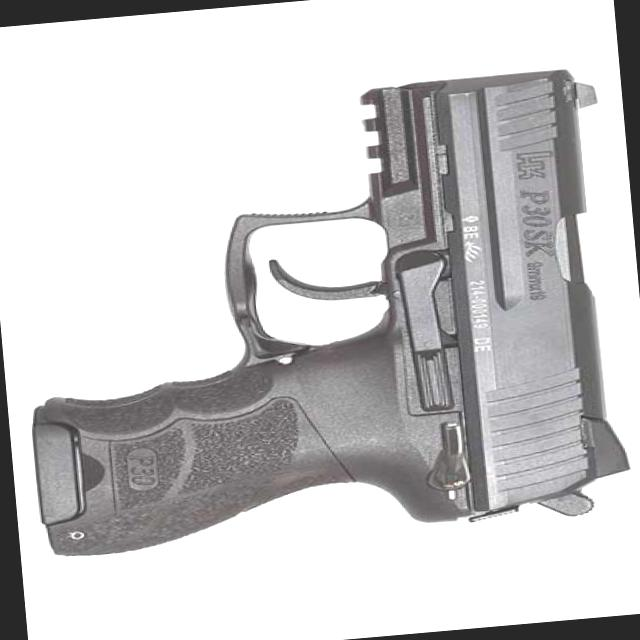handgun: (4, 56, 639, 567)
